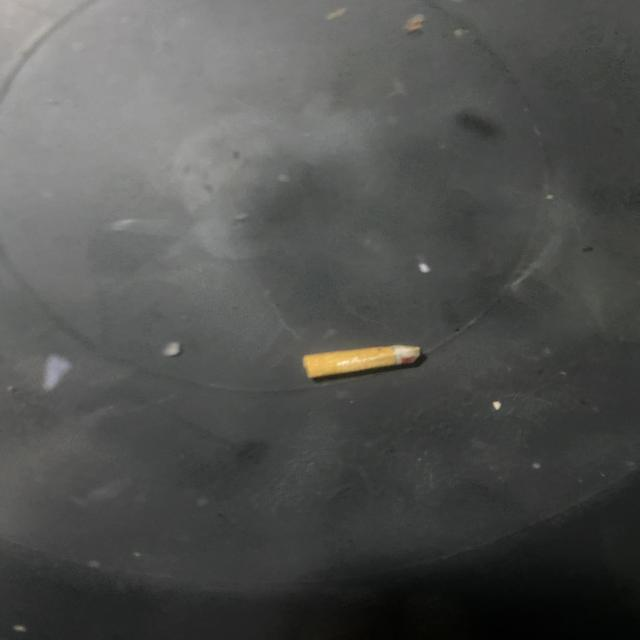Cigarette Filter: (286, 332, 442, 400)
